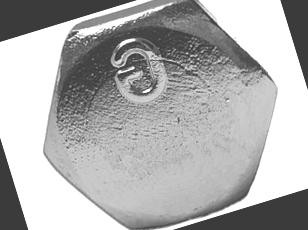screw: (8, 0, 305, 230)
